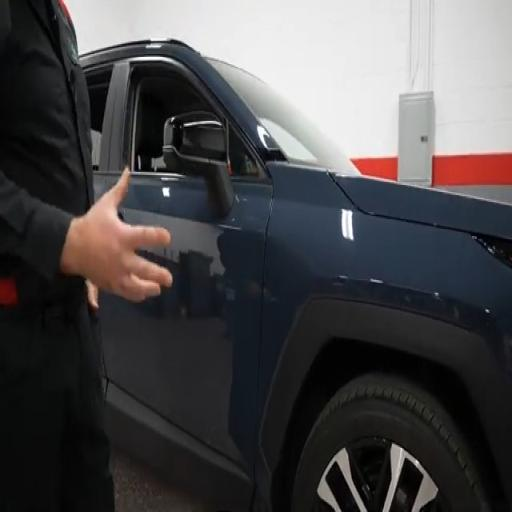door: (100, 59, 271, 472)
hood: (332, 174, 511, 240)
side_mirror: (164, 111, 234, 216), (164, 111, 227, 166)
wheel: (292, 375, 490, 511)
window: (131, 69, 214, 172), (86, 66, 112, 170)
windshield: (208, 59, 359, 174)
